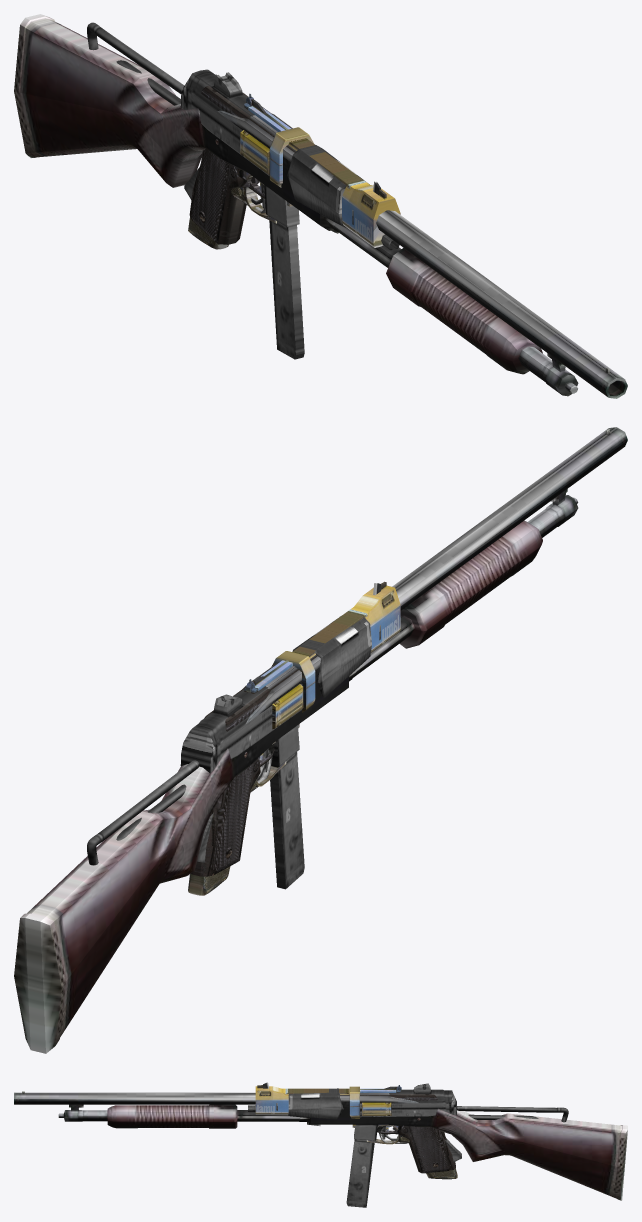
File: Guns.fbx
3 views of the same model, one above another, from view 1: azimuth 30°, elevation 25°; view 2: azimuth 150°, elevation 25°; view 3: azimuth 270°, elevation 25° (orthographic). The views are drawn at different scales.
Parts seen in each view (by area): view 1: Shotgun, smg, Revolver, Pistol, PistolTop; view 2: Shotgun, smg, Revolver, Pistol; view 3: Shotgun, smg, Revolver, Pistol, PistolTop.
Boxes of the visible parts, x1,y1,x2,y2 form: Shotgun: (14, 14, 627, 398); smg: (87, 22, 399, 359); Revolver: (188, 93, 400, 249); Pistol: (189, 139, 264, 244); PistolTop: (201, 86, 295, 152); Shotgun: (14, 427, 627, 1053); smg: (87, 583, 380, 889); Revolver: (188, 581, 400, 895); Pistol: (191, 749, 274, 876); Shotgun: (14, 1091, 627, 1200); smg: (248, 1082, 568, 1207); Revolver: (255, 1085, 457, 1179); Pistol: (377, 1117, 455, 1173); PistolTop: (340, 1094, 437, 1100).
Size of the model in its own units: 11.63 by 55.24 by 247.
